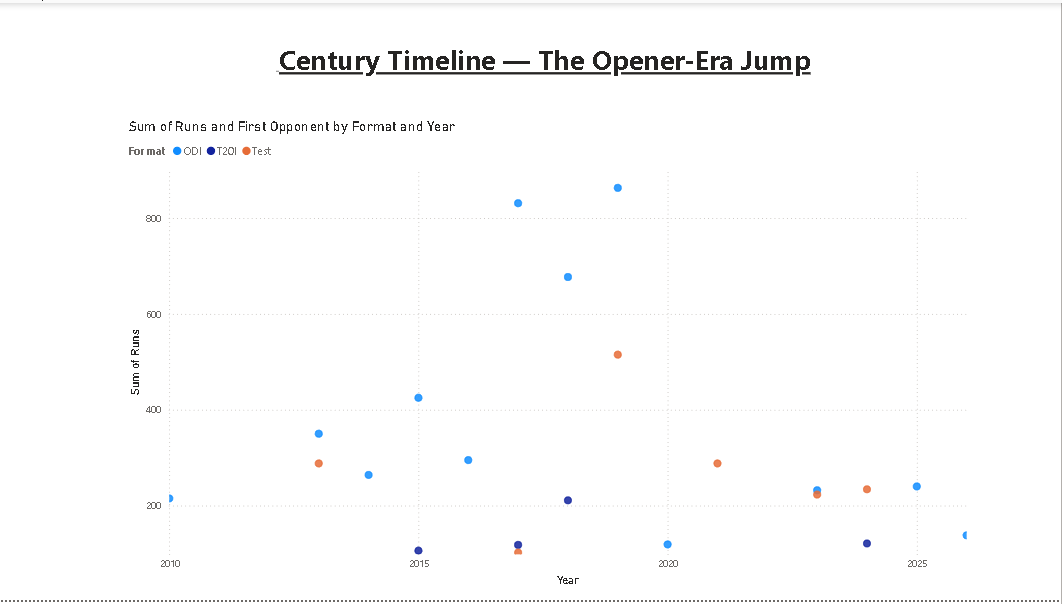

This screenshot's page, from the dashboard's own definition file:
{"tool":"powerbi","page":{"name":"Century Timeline","canvas":[1280,720],"ordinal":1},"visuals":[{"type":"scatterChart","fields":{"X":["rohit_sharma_centuries.Year"],"Y":["Sum(rohit_sharma_centuries.Runs)"],"Series":["rohit_sharma_centuries.Format"]},"box":[151.1,139.1,1032.2,568.5],"z":0},{"type":"textbox","box":[207.8,41.2,896.6,79],"z":1000}]}

Visuals, with their boxes in screenshot pixels (x1, y1, x2, y2), scaled from the page's 1280x720 canvas onto the 1062x604 screenshot:
scatterChart - rohit_sharma_centuries.Year x Sum(rohit_sharma_centuries.Runs): bbox(125, 117, 982, 594)
textbox: bbox(172, 35, 916, 101)
